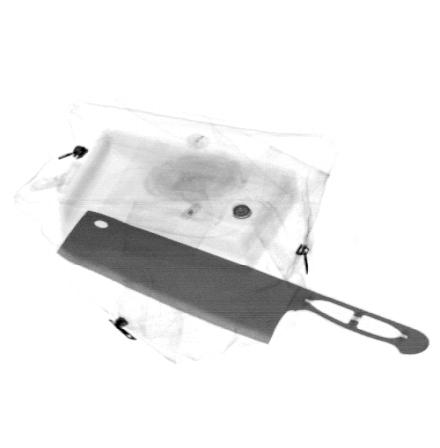Knife: (56, 209, 431, 356)
